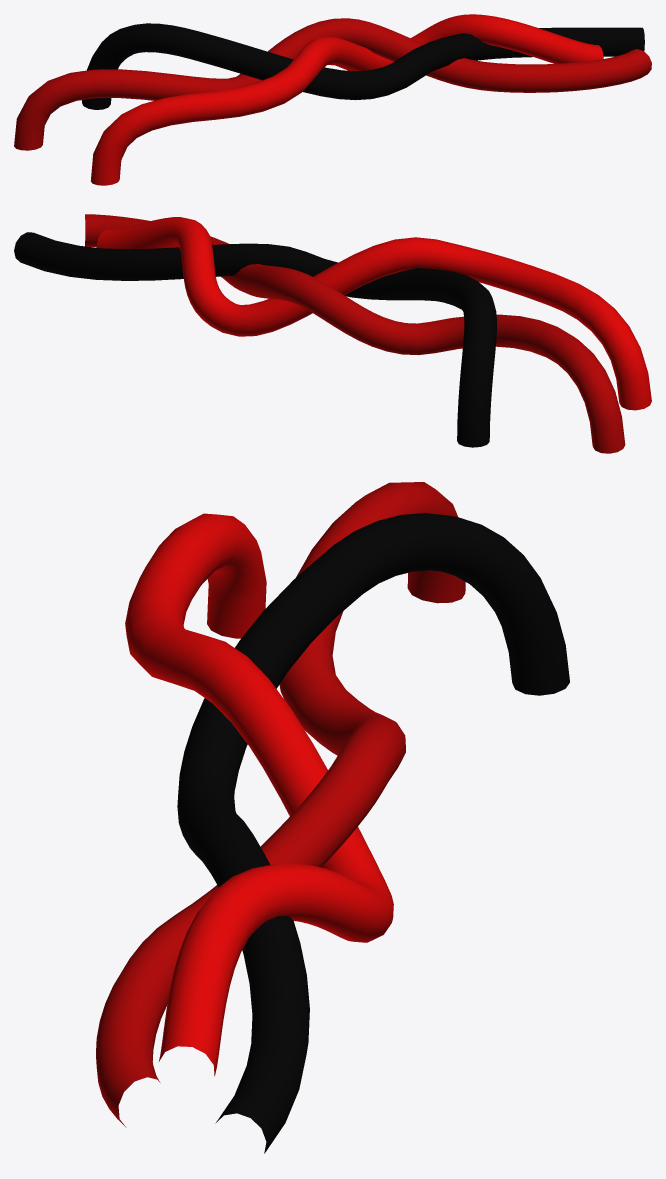
Rendered from vines.glb.
The picture shows the model from 3 angles, top to bottom: view 1: azimuth 30°, elevation 25°; view 2: azimuth 150°, elevation 25°; view 3: azimuth 270°, elevation 25°; orthographic projection. The views are drawn at different scales.
Visible parts, largest first — view 1: Vines; view 2: Vines; view 3: Vines.
Boxes of the visible parts, x1,y1,x2,y2 form: Vines: [14, 14, 651, 185]; Vines: [14, 214, 651, 453]; Vines: [96, 482, 569, 1153].
Bounding box in the file's own units: 4.64 × 0.8253 × 1.63.
